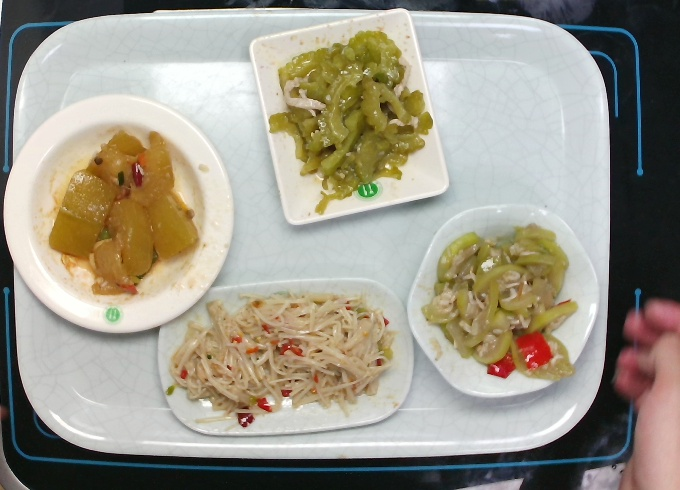WCQzf-Bai_Se_Si_Fang_Die: (247, 6, 451, 226)
WCQzf-Hua_Duo_Wan: (404, 201, 602, 400)
WCQzf-Kuan_Bian_Yuan_Die: (1, 92, 236, 335)
WCQzf-Tuo_Yuan_Pan: (155, 275, 416, 438)
